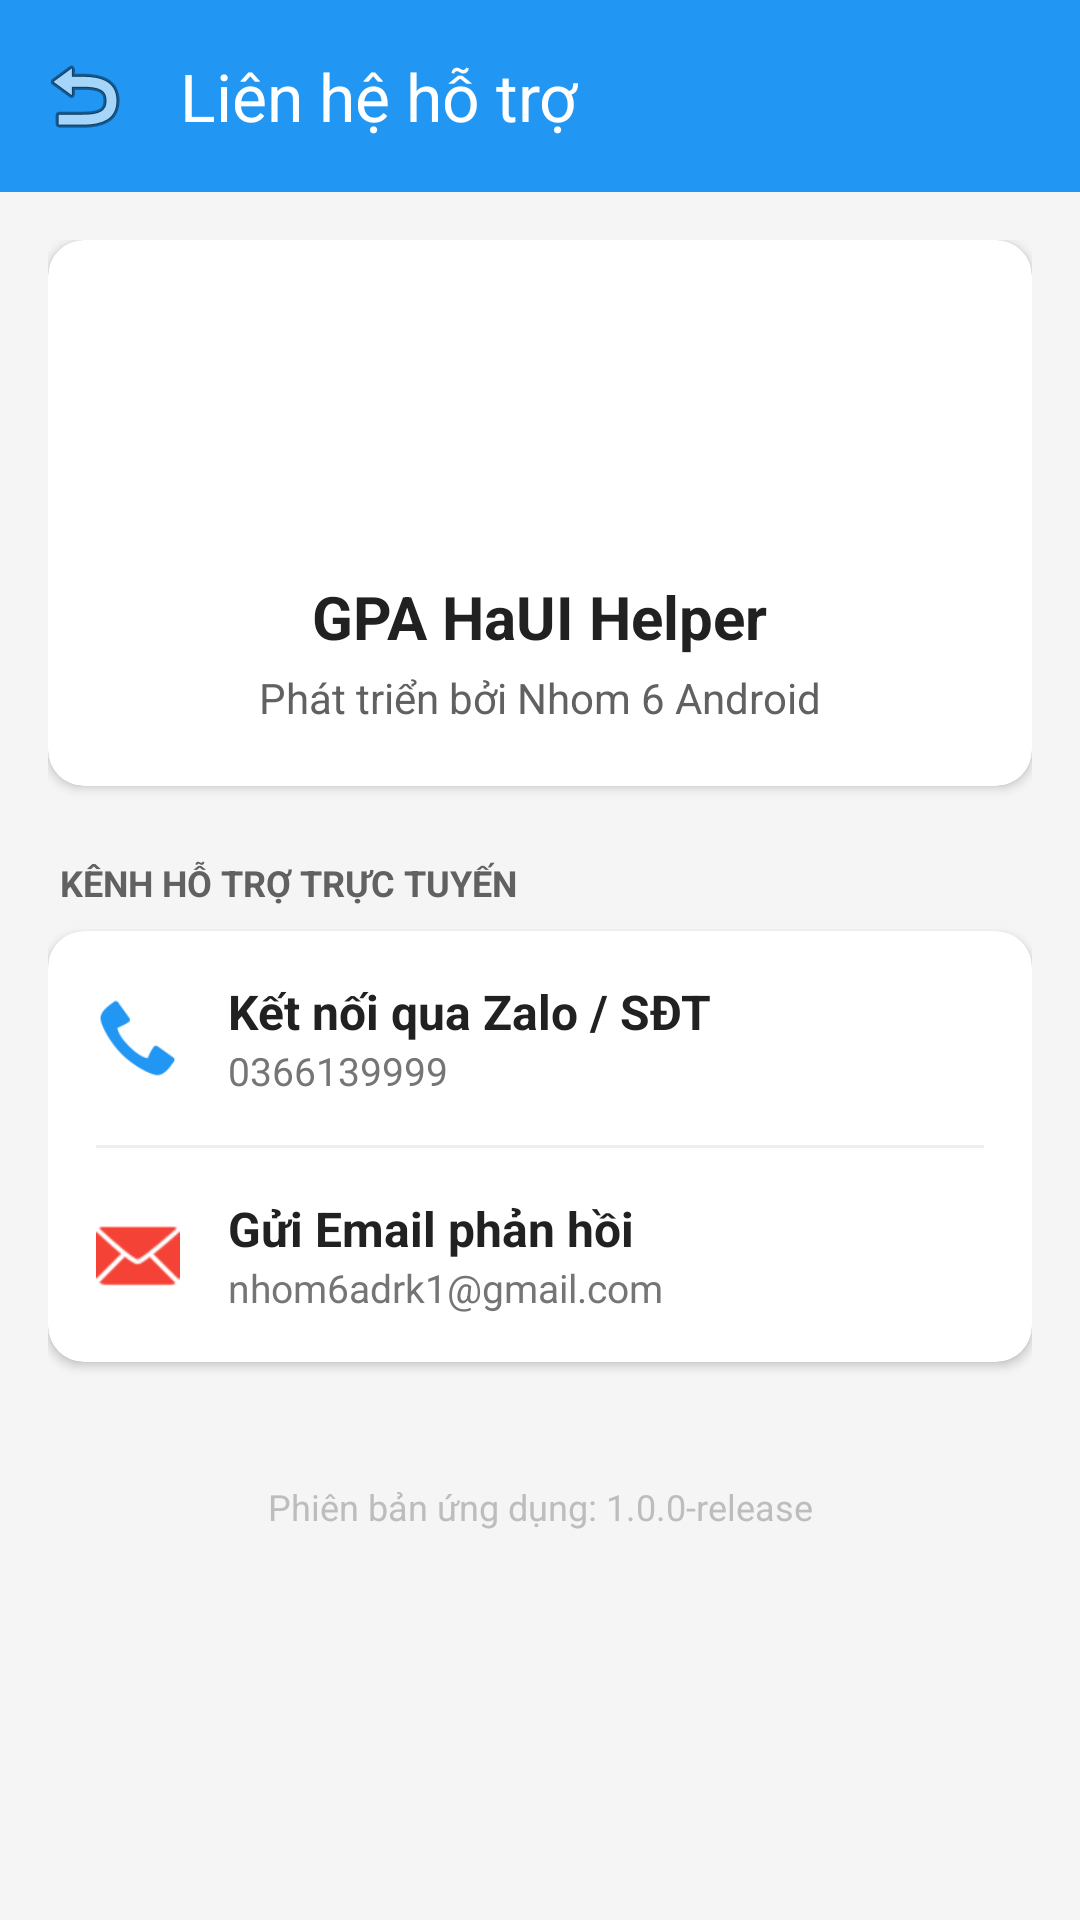

Named icons in this screenshot (1080px×1920px) and their bounding boxes, (x1, y1, x2, y2):
phone call: (100, 1000, 175, 1076)
